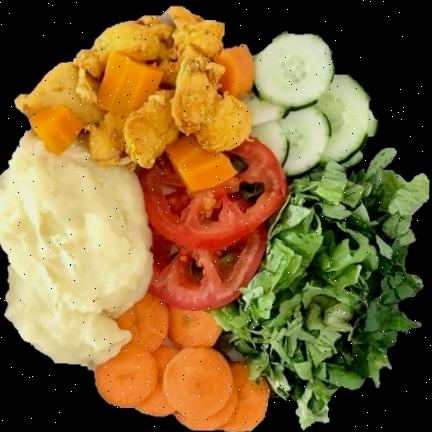carrot: (93, 293, 267, 431)
chicken: (14, 8, 251, 168)
cucumber: (246, 33, 375, 177)
potato: (0, 132, 152, 366)
salad: (212, 148, 428, 428)
tomato: (138, 139, 286, 310)
